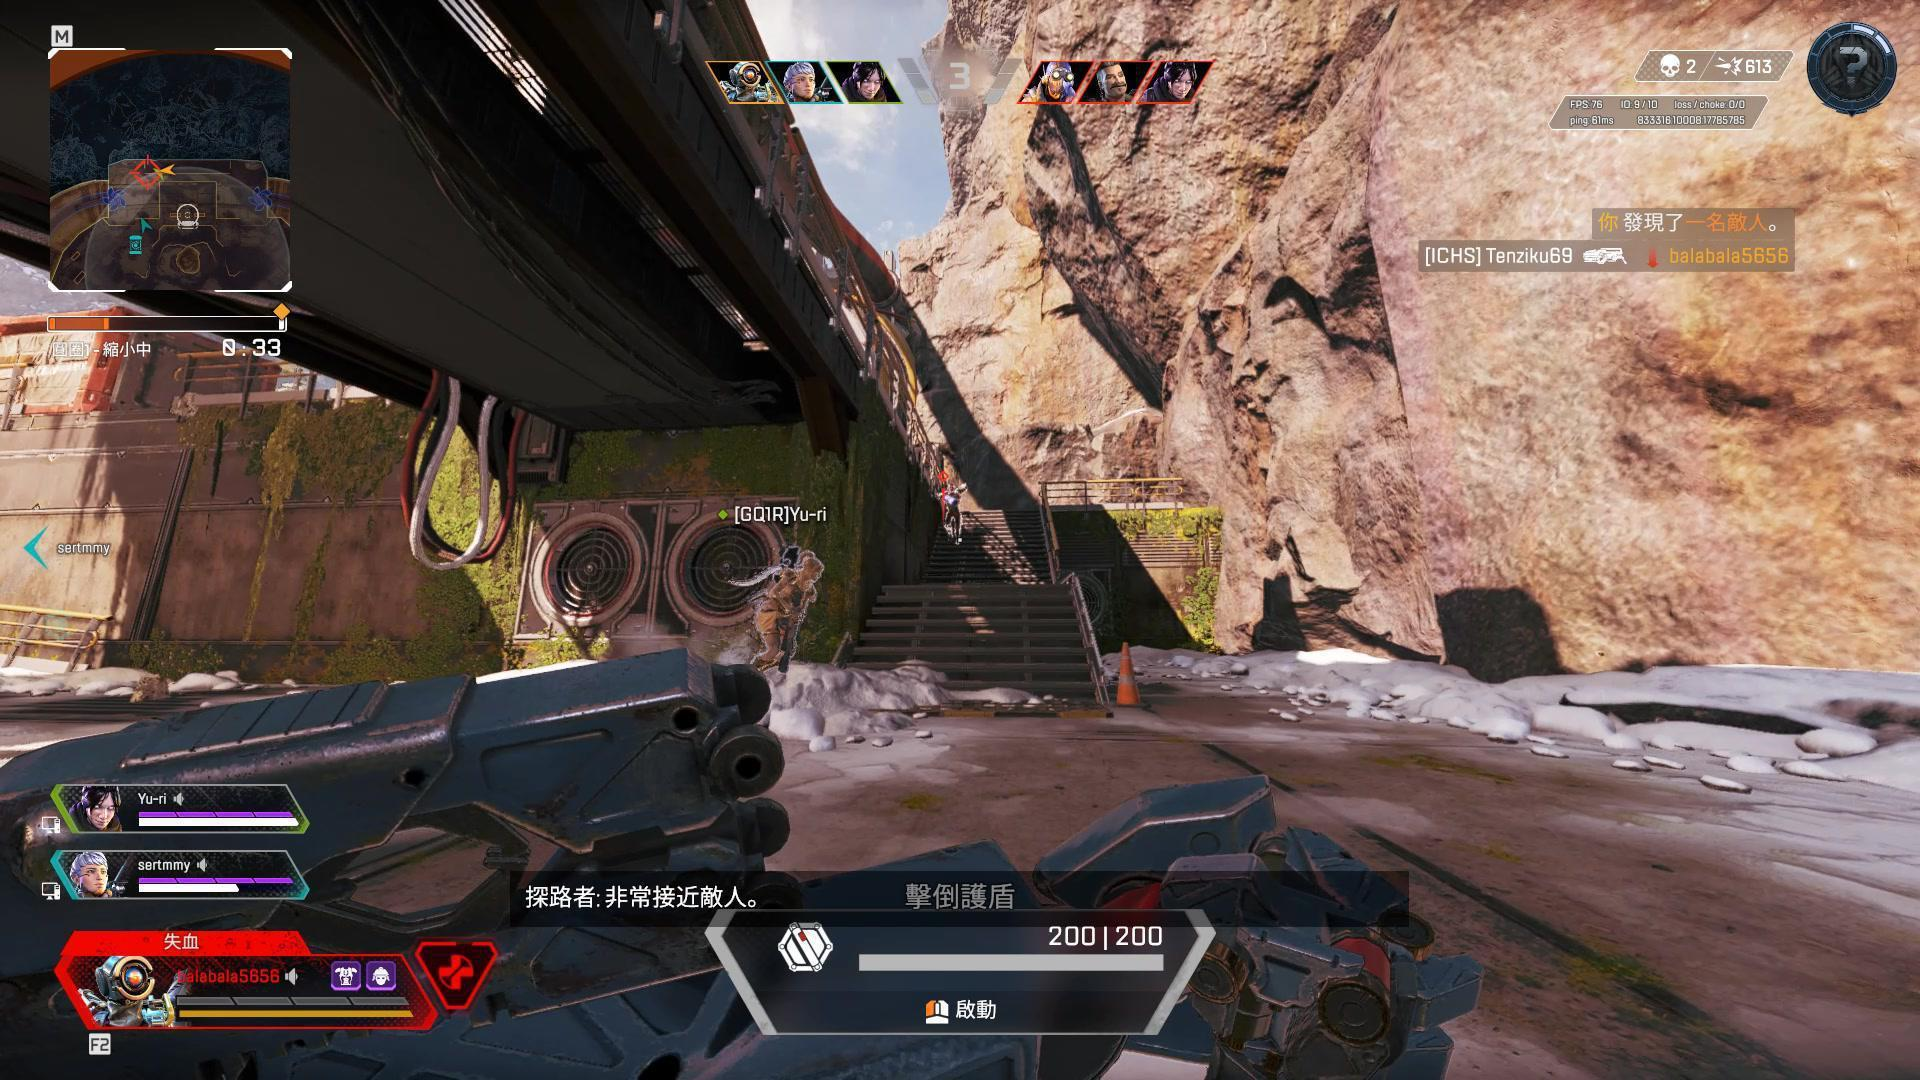avatar: (747, 543, 828, 678)
